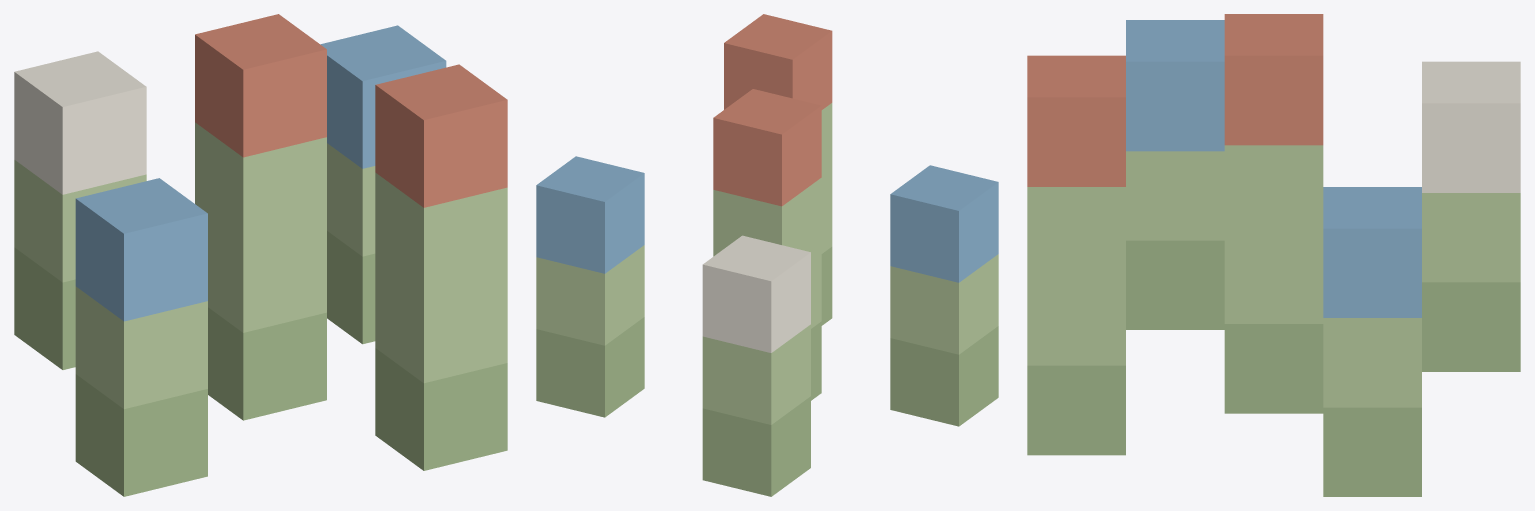
File: decor_flowers_b.glb
The picture shows the model from 3 angles, left to right: view 1: azimuth 30°, elevation 25°; view 2: azimuth 150°, elevation 25°; view 3: azimuth 270°, elevation 25°; orthographic projection. The views are drawn at different scales.
Parts seen in each view (by area): view 1: decor_flowers_b; view 2: decor_flowers_b; view 3: decor_flowers_b.
Part boxes in pixels (left/top/right/bottom): decor_flowers_b: left=14, top=14, right=507, bottom=496; decor_flowers_b: left=536, top=14, right=998, bottom=496; decor_flowers_b: left=1027, top=14, right=1520, bottom=496.
Size of the model in its own units: 0.3125 by 0.25 by 0.3125.
